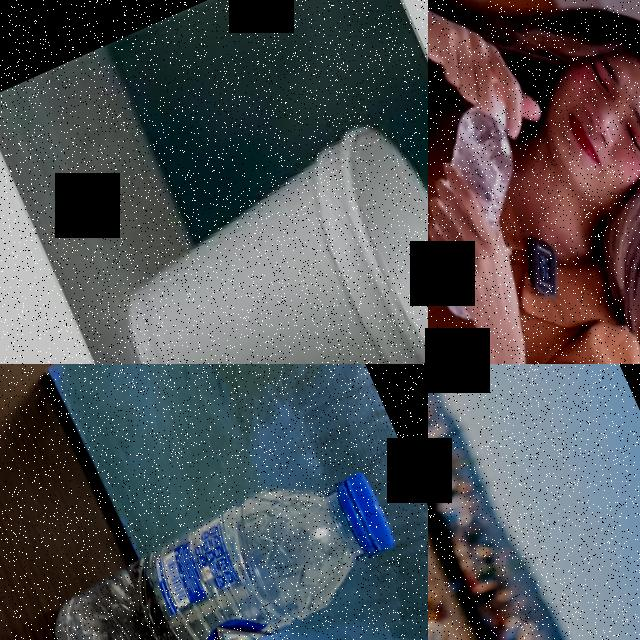bottle: (35, 452, 415, 640), (428, 89, 581, 333)
cup: (89, 104, 428, 364)
